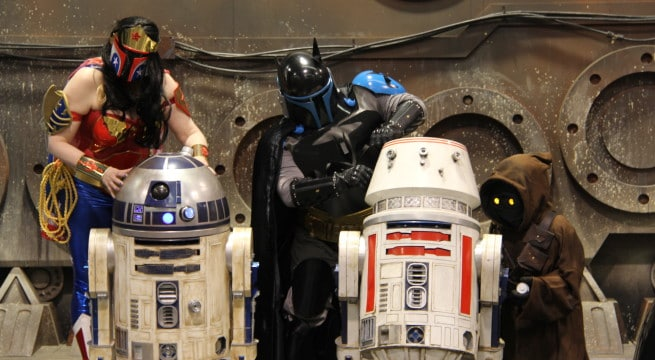r2d2: (91, 154, 258, 359)
